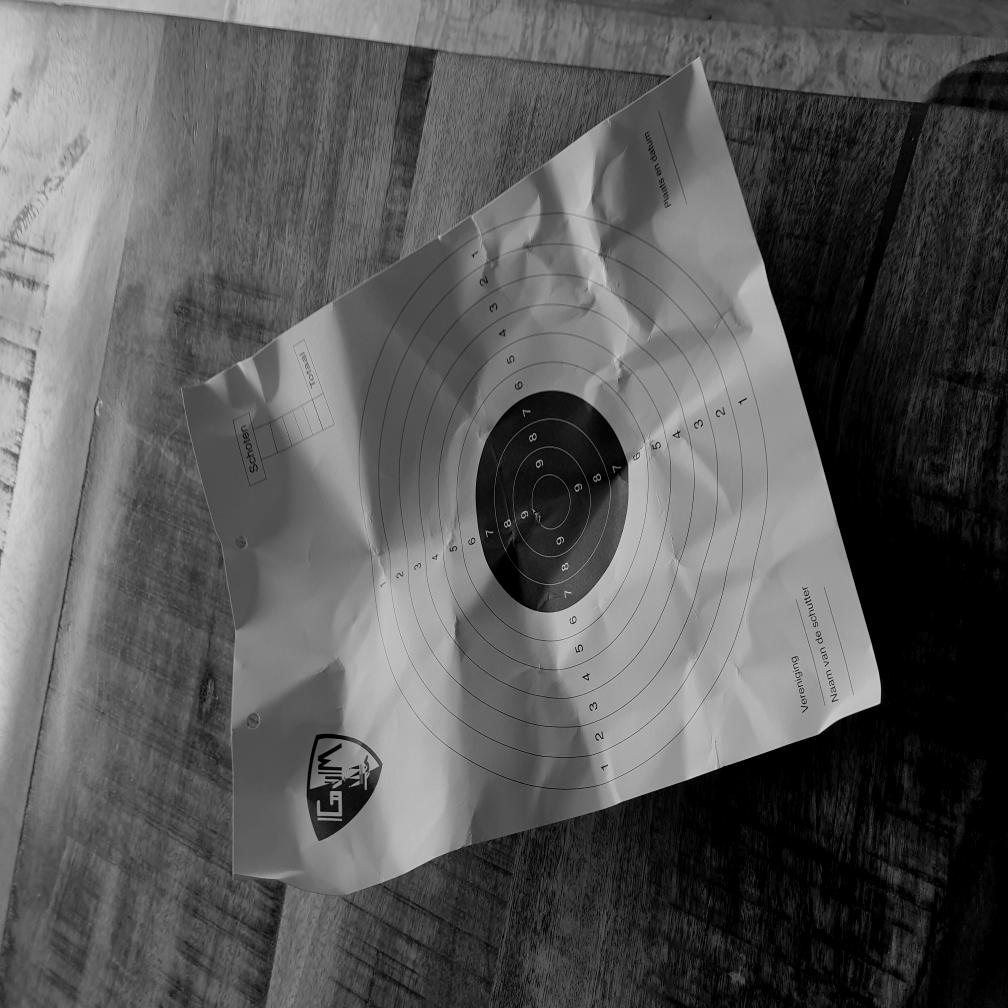10: (530, 503, 543, 526)
Target: (358, 208, 770, 794)
black_contour: (476, 390, 628, 613)
